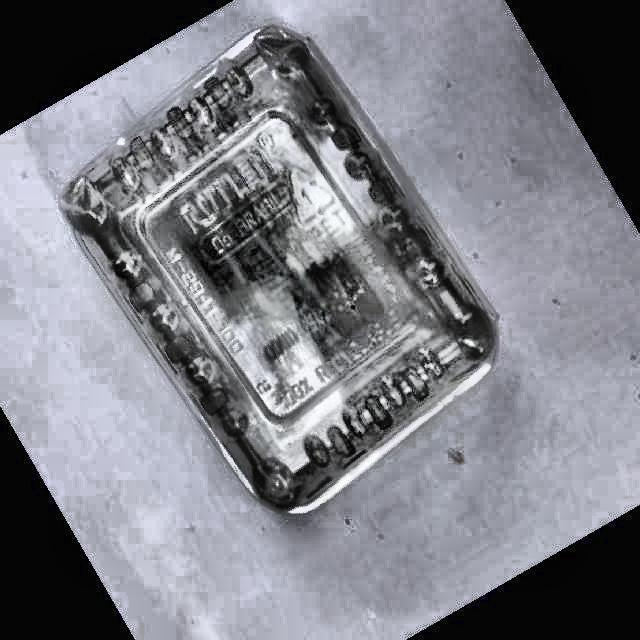plastic: (60, 25, 498, 512)
